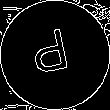P_S: (32, 27, 78, 84)
